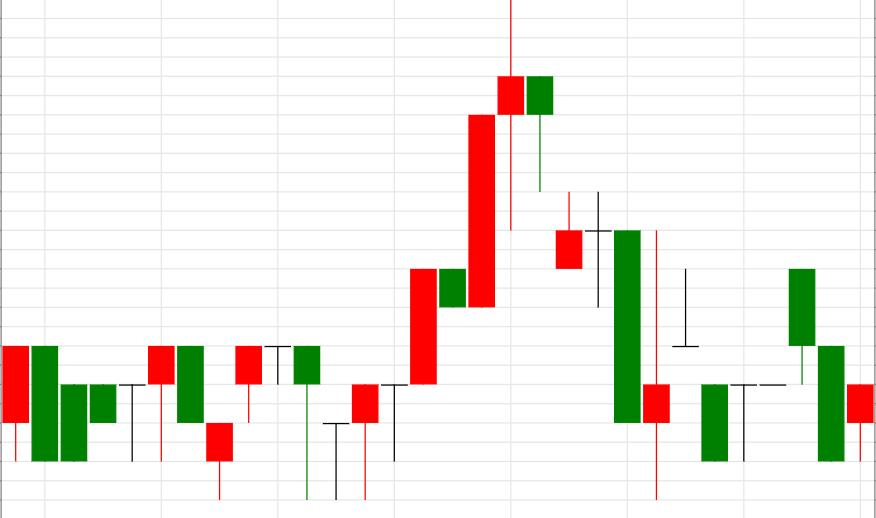hanging_man_fall: (352, 1, 553, 499)
